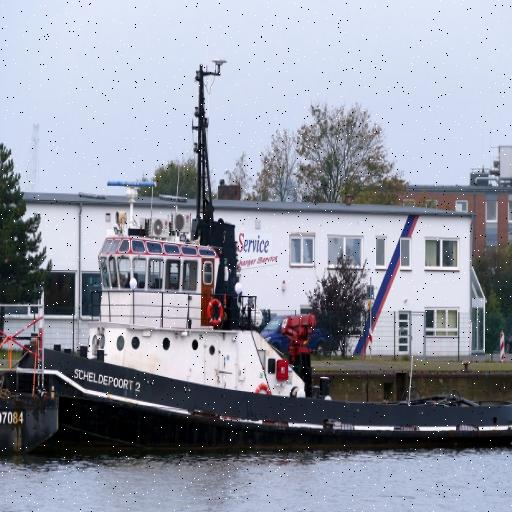tugboat: (17, 230, 512, 467)
